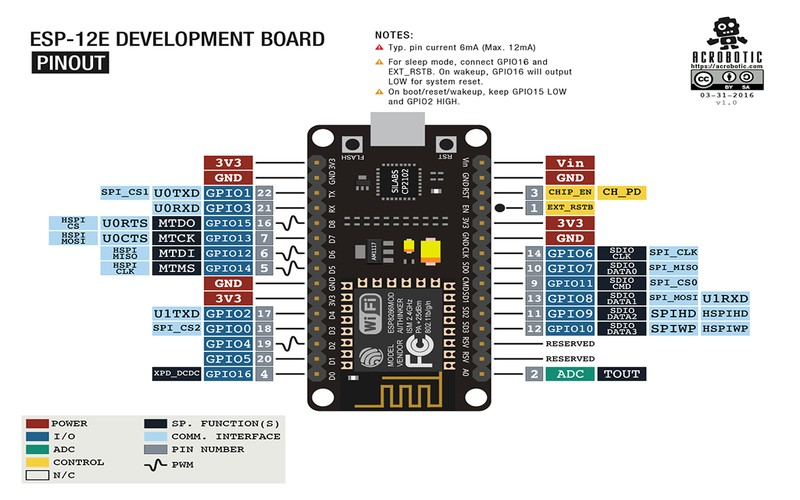IoT Sensor: (298, 116, 498, 417)
